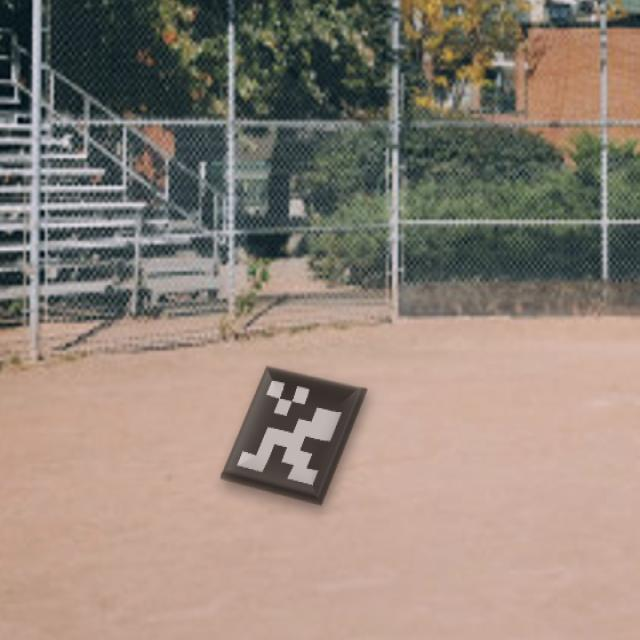marker: (212, 360, 377, 510)
